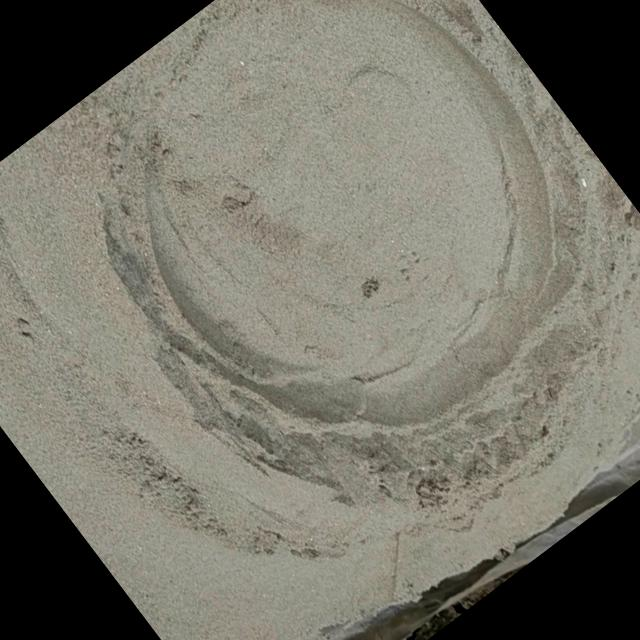C40: (107, 0, 553, 461)
